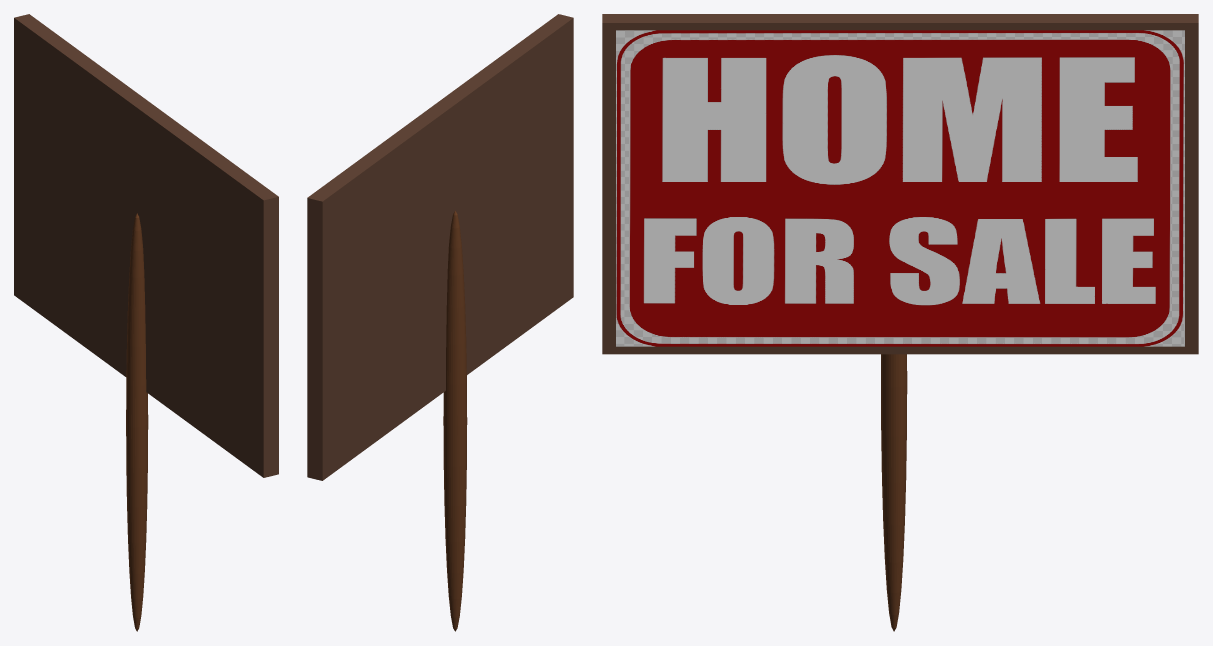
Rendered from home for sale.fbx.
The picture shows the model from 3 angles, left to right: view 1: azimuth 30°, elevation 25°; view 2: azimuth 150°, elevation 25°; view 3: azimuth 270°, elevation 25°; orthographic projection. The views are drawn at different scales.
Parts seen in each view (by area): view 1: Cube.002; view 2: Cube.002; view 3: Cube.002.
Part boxes in pixels (x1,y1,x2,y2): Cube.002: (14,14,278,631); Cube.002: (307,14,573,631); Cube.002: (602,14,1198,631).
Size of the model in its own units: 56.12 by 941 by 819.
